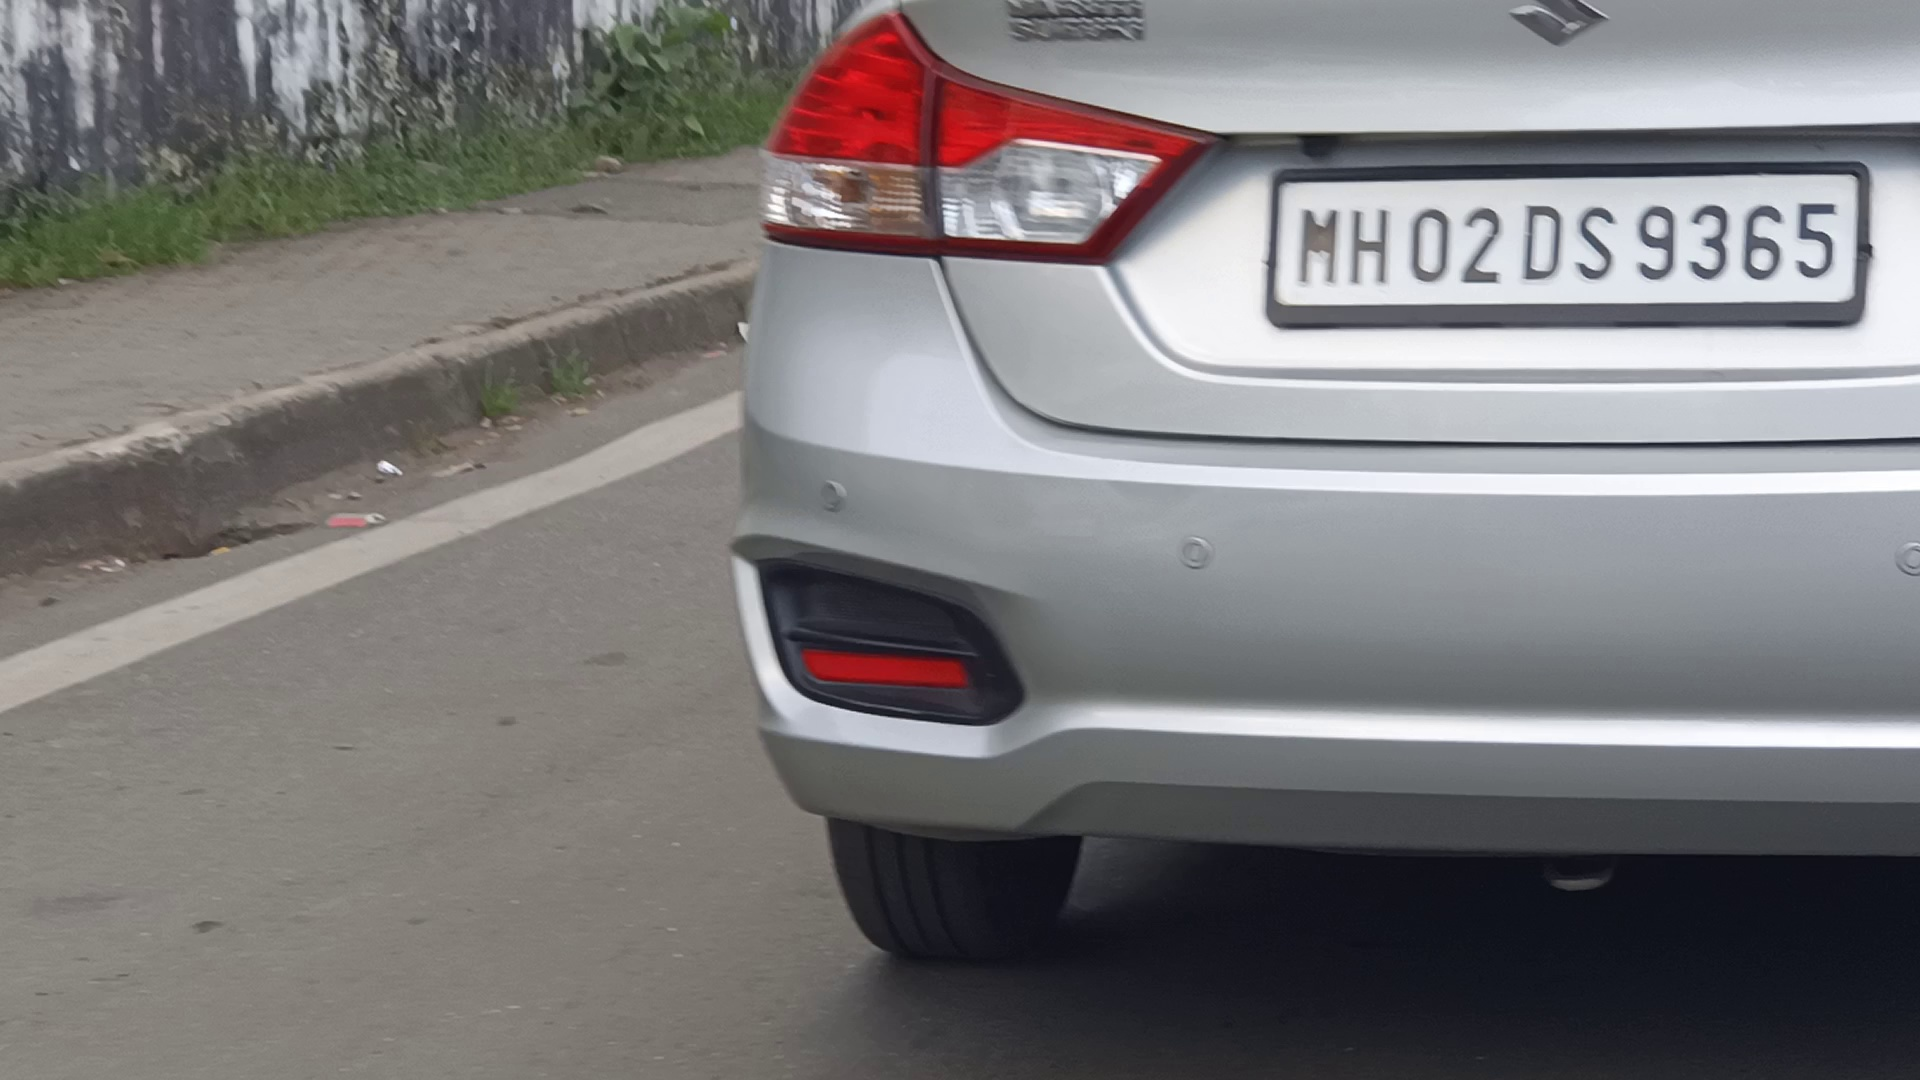MH02DS9365: (1270, 177, 1854, 303)
